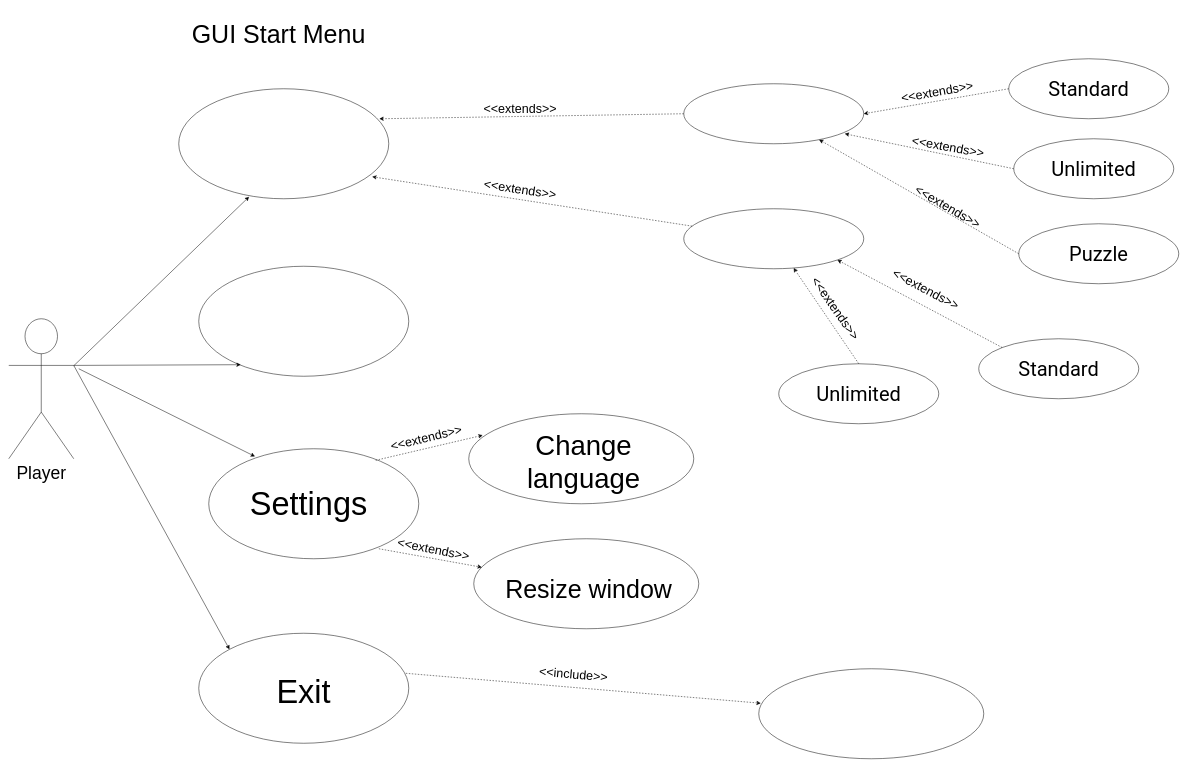
Image size: 1188x768. Some labels were removed from this diagram. The centre of each missing label's shape, as x and y in pixels:
"Close game" goes at pixel 871 713.
"Load game" goes at pixel 303 321.
"Multiplayer" goes at pixel 773 238.
"New game" goes at pixel 283 143.
"Singelplayer" goes at pixel 773 113.
